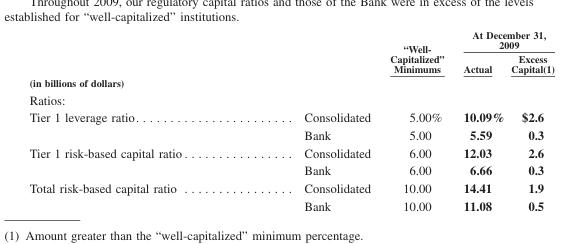table: (28, 28, 553, 212)
table column: (28, 28, 245, 212), (245, 28, 379, 212), (379, 28, 453, 212), (453, 28, 506, 212), (506, 28, 553, 212)
table column header: (28, 28, 553, 75)
table projected row header: (28, 90, 553, 108), (28, 75, 553, 90)
table row: (28, 51, 553, 75), (28, 28, 553, 51), (28, 90, 553, 108), (28, 125, 553, 143), (28, 143, 553, 161), (28, 178, 553, 196), (28, 108, 553, 125), (28, 161, 553, 178), (28, 196, 553, 212), (28, 75, 553, 90)
table spanning cell: (28, 108, 245, 143), (28, 143, 245, 178), (28, 178, 245, 212), (379, 28, 453, 75), (453, 28, 553, 51)
